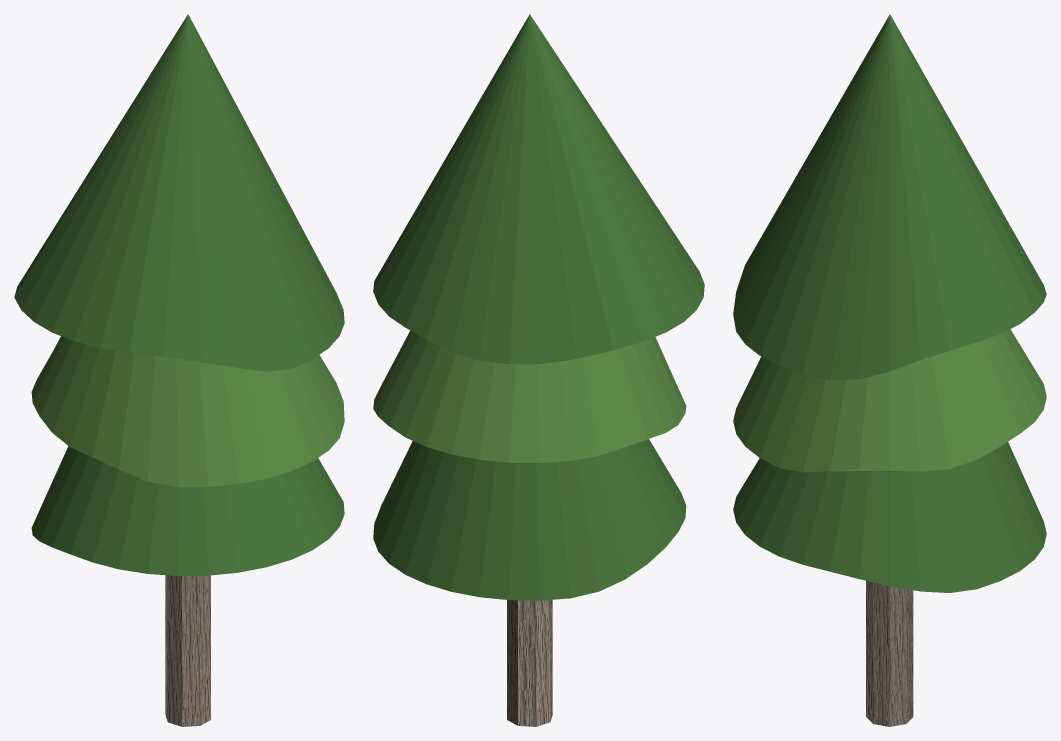
Rendered from pine_tree.glb.
3 views of the same model, side by side, from view 1: azimuth 30°, elevation 25°; view 2: azimuth 150°, elevation 25°; view 3: azimuth 270°, elevation 25° (orthographic).
Parts seen in each view (by area): view 1: tree4; view 2: tree4; view 3: tree4.
Part boxes in pixels (x1,y1,x2,y2): tree4: (14, 14, 344, 726); tree4: (373, 14, 704, 726); tree4: (733, 14, 1046, 726).
Bounding box in the file's own units: 2.03 × 4.7 × 1.9.
Materials: 3 (1 with a texture image).
